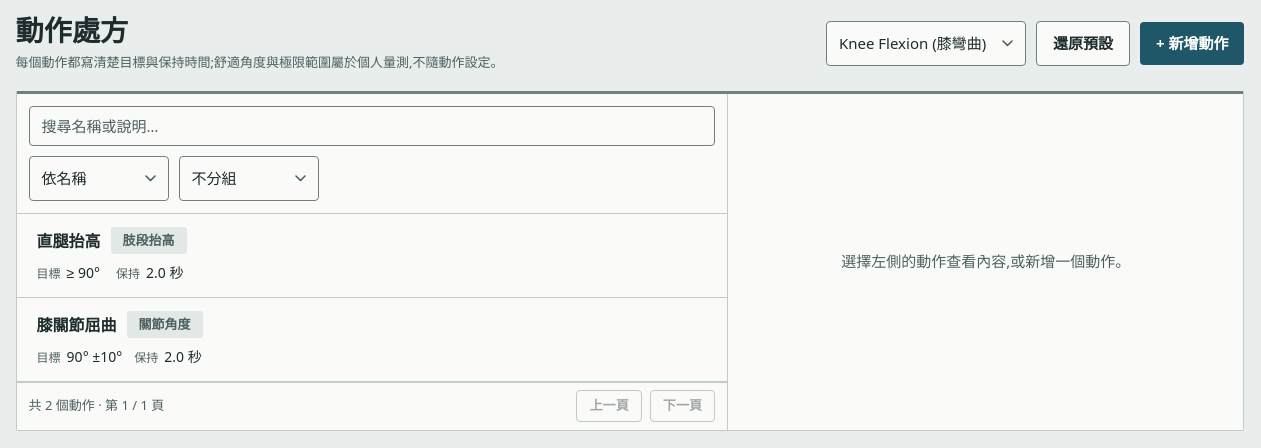
ActionsView 檢視面板(v3) › 選取動作後在右側顯示目標與保持;不再顯示任何超限門檻
The width and height of the screenshot is (1261, 448).
Click the button "膝關節屈曲 關節角度 目標90° ±10° 保持2.0 秒" at (77, 324), box [17,298,727,382]
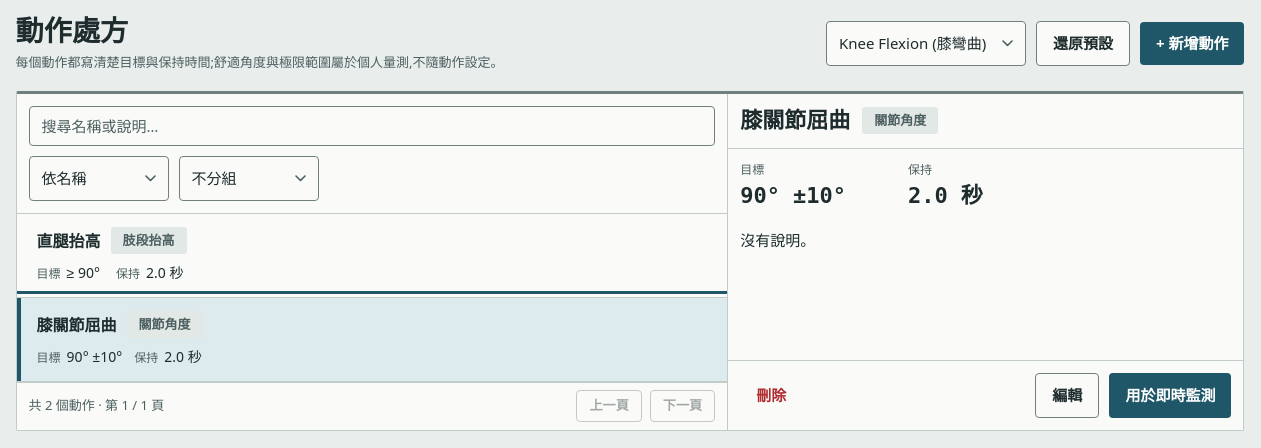
Check: the element named "動作內容" does not show "超限", box [728,94,1243,430]
Check: the element named "動作內容" shows "90° ±10°", box [740,182,846,208]
Check: the element named "動作內容" shows "2.0 秒", box [908,182,983,208]
